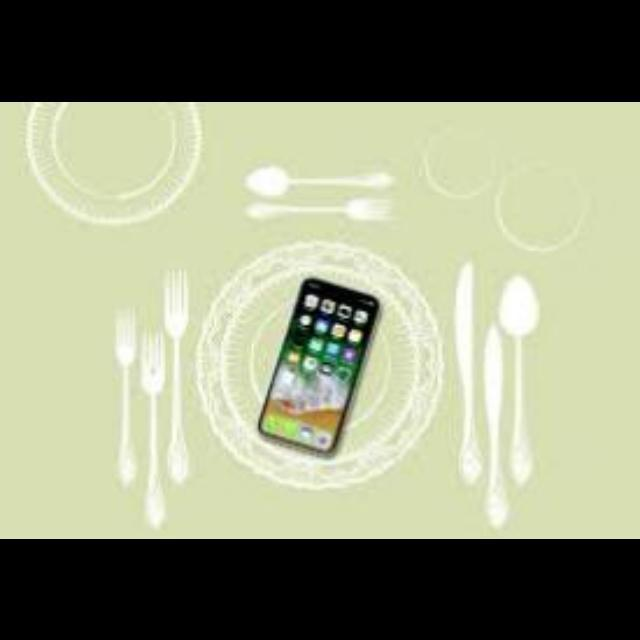phone: (220, 257, 434, 472)
